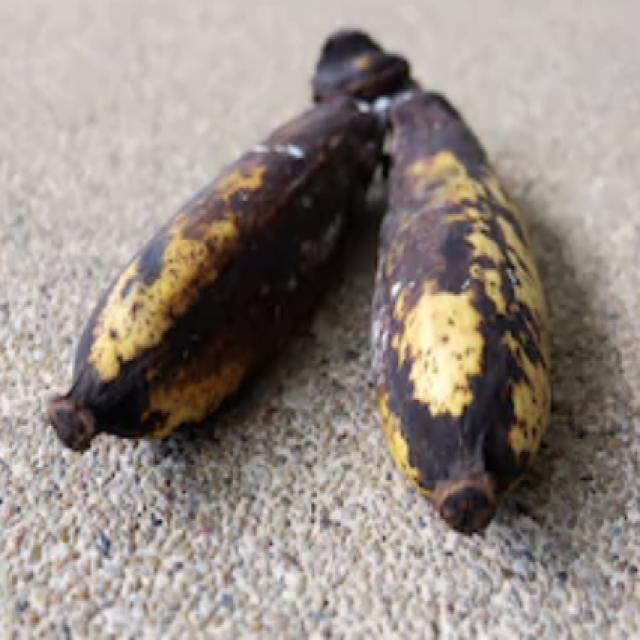rotten-banana: (64, 52, 382, 458), (362, 88, 558, 530)
